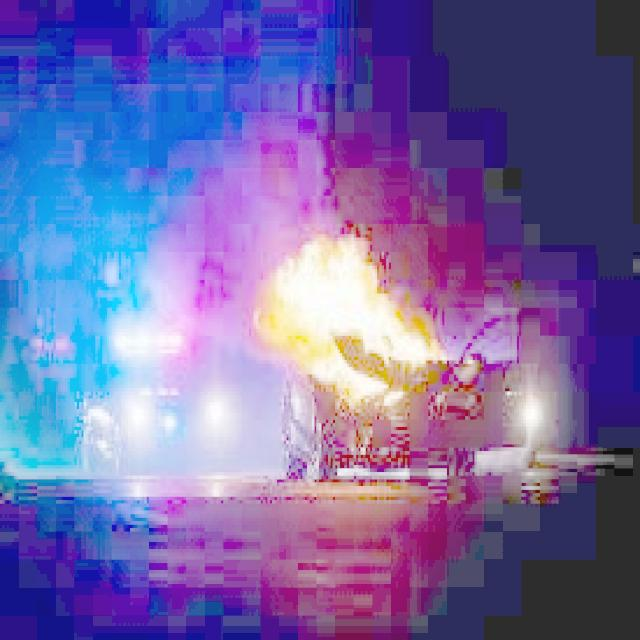api: (257, 225, 462, 414)
